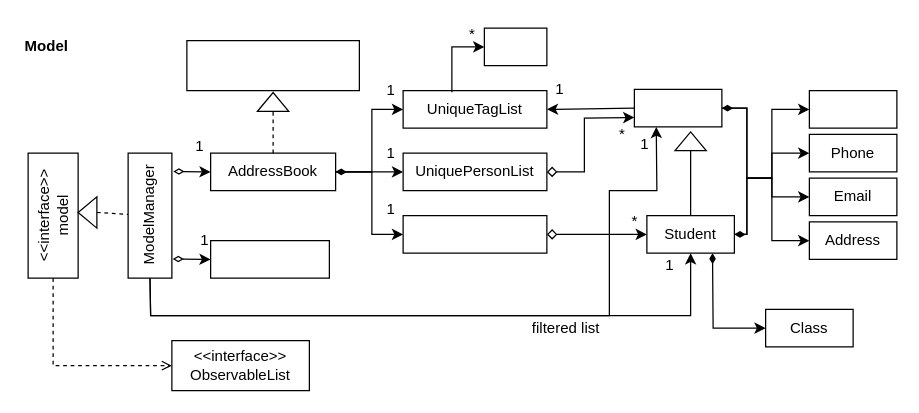
Image size: 919x413. Some labels were removed from this diagram. Here are the shapes that lost their labels. From the top down, the centre of each, then its label:
the point at 272,65: <<interface>> ReadOnlyAddressBook
the point at 515,46: Tag
the point at 677,107: Person
the point at 852,108: Name
the point at 474,233: UniqueStudentList
the point at 269,258: UserPref
